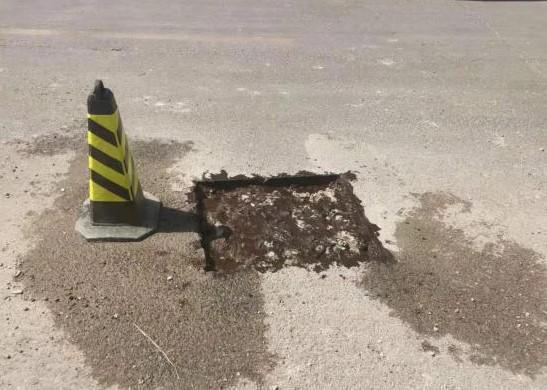pothole: (190, 169, 390, 277)
roadcone: (74, 78, 164, 242)
